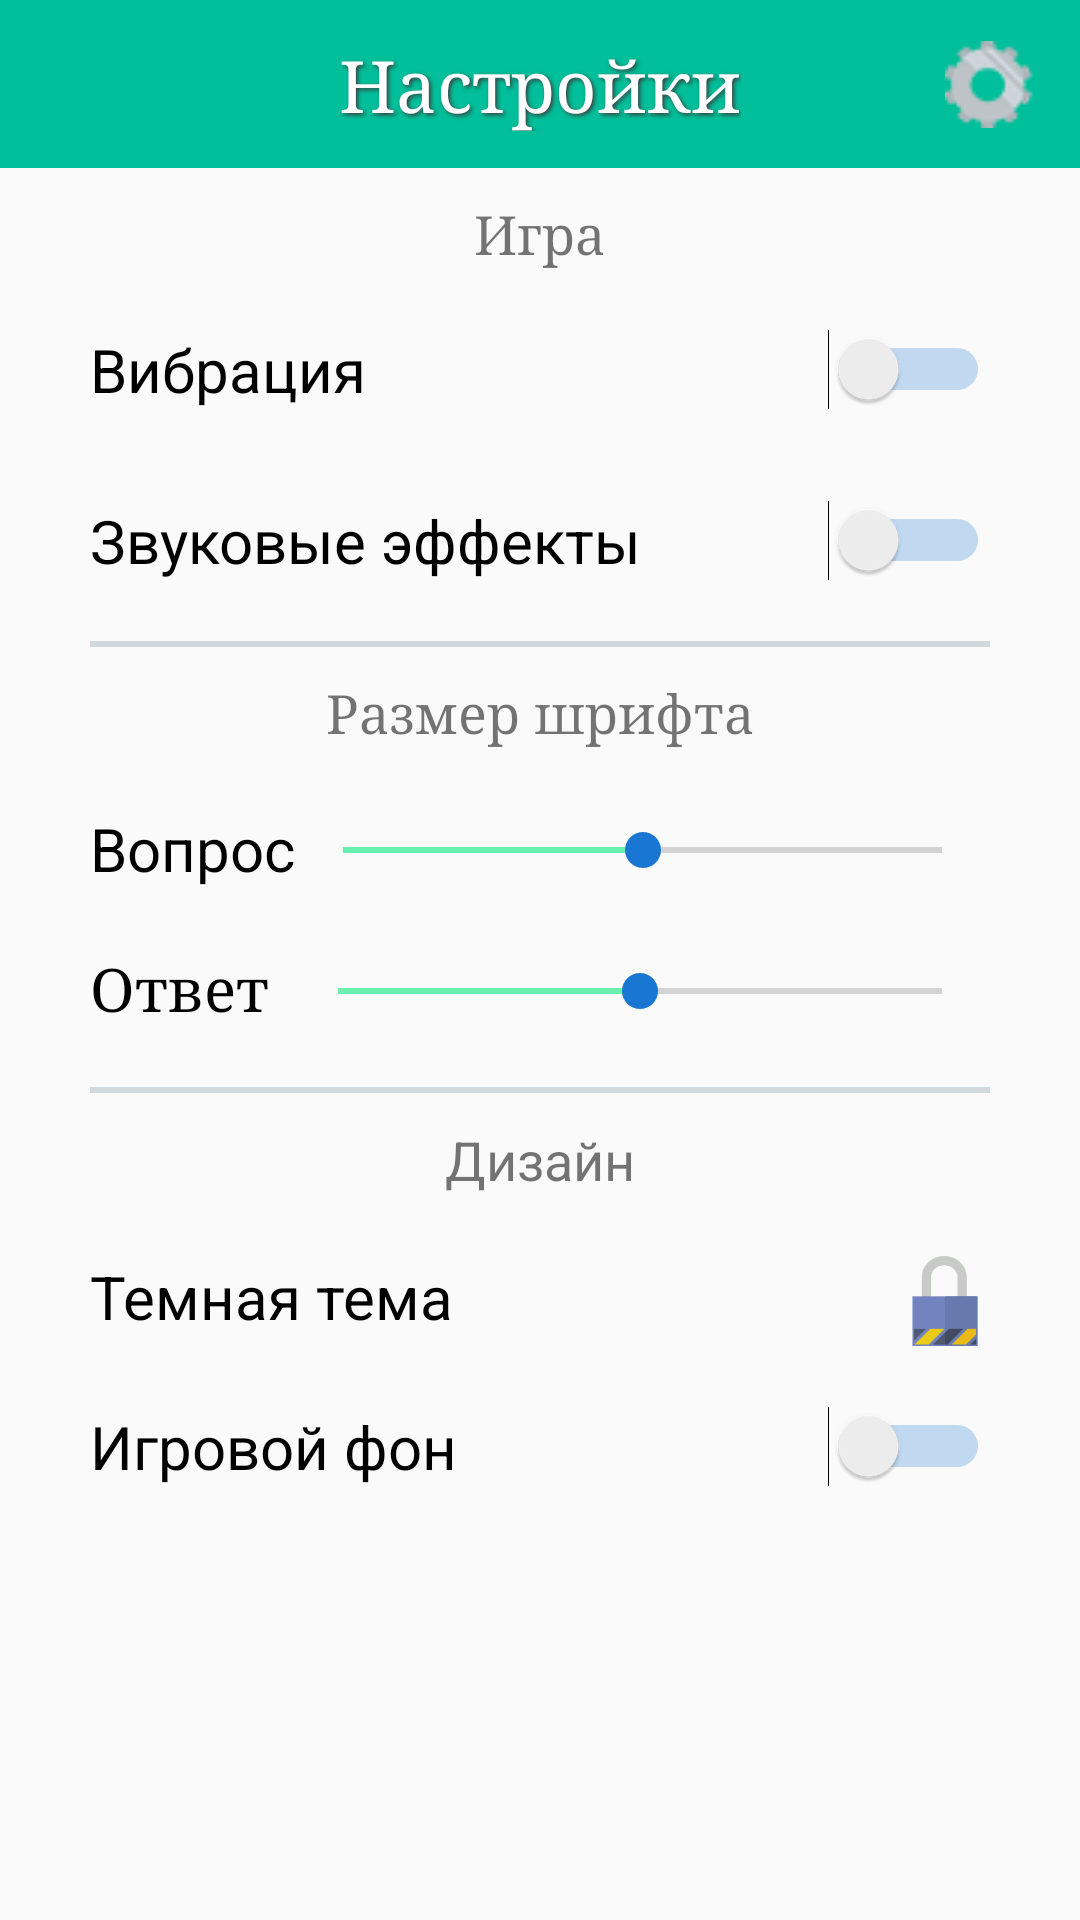

Point at icon controls on the screen. Image size 1080px x 1920px, points as [x,y].
lock: [945,1301]
setting: [989,84]
